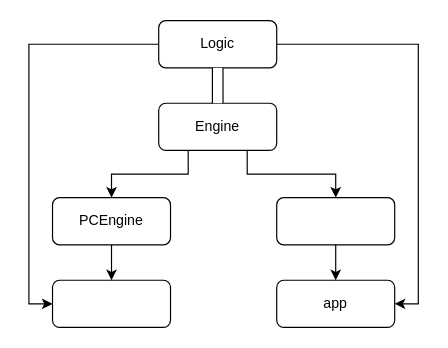
Some shapes in this 448 by 348 pixel diagram are drawn without their labels. Here are the shapes that lost their labels. From the top down, the box of each, then its label:
(276, 196, 395, 245): AndroidEngine
(51, 279, 171, 327): PCLauncher
